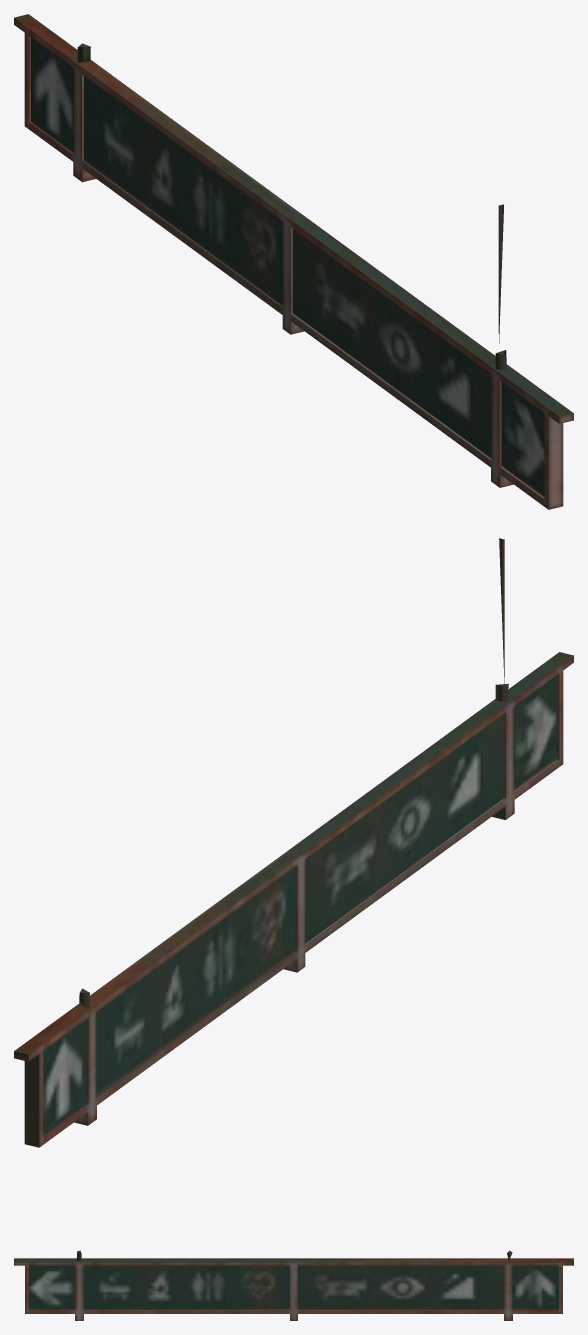
File: hosp-sign.lod1.glb
3 renders of one model, top to bottom at view 1: azimuth 30°, elevation 25°; view 2: azimuth 150°, elevation 25°; view 3: azimuth 270°, elevation 25°, orthographic. The views are drawn at different scales.
Visible parts, largest first — view 1: defaultMaterial; view 2: defaultMaterial; view 3: defaultMaterial.
Part boxes in pixels (x1,y1,x2,y2): defaultMaterial: (14,14,573,509); defaultMaterial: (14,538,573,1147); defaultMaterial: (14,1250,573,1320).
Size of the model in its own units: 0.0246 by 0.4487 by 1.6.
Materials: 1 (1 with a texture image).
